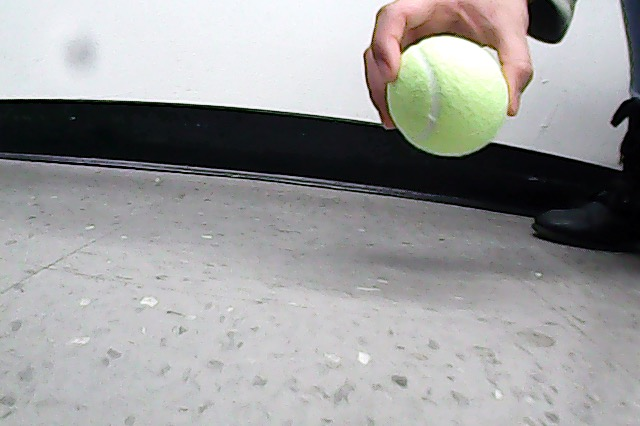ball: (388, 34, 509, 157)
